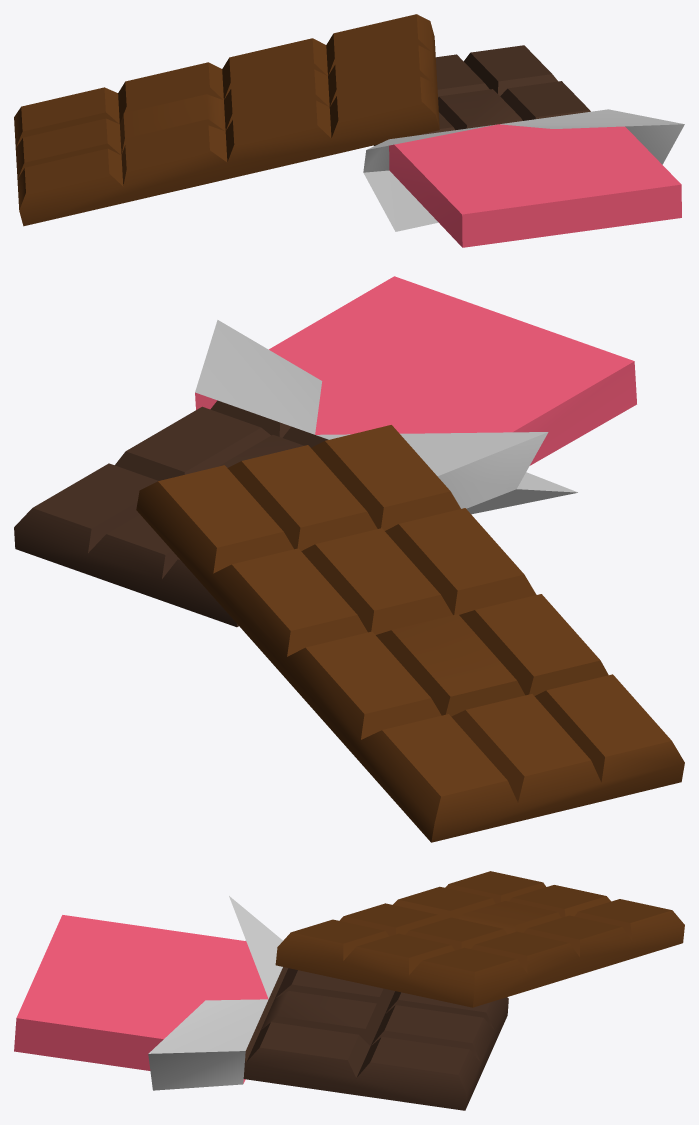
The picture shows the model from 3 angles, top to bottom: view 1: azimuth 30°, elevation 25°; view 2: azimuth 150°, elevation 25°; view 3: azimuth 270°, elevation 25°; orthographic projection. The views are drawn at different scales.
Visible parts, largest first — view 1: Cube.001, Cube; view 2: Cube.001, Cube; view 3: Cube, Cube.001.
Part boxes in pixels (x1,y1,x2,y2): Cube.001: (14, 14, 439, 226); Cube: (363, 45, 684, 247); Cube.001: (136, 425, 684, 842); Cube: (14, 276, 636, 627); Cube: (14, 896, 508, 1110); Cube.001: (275, 871, 684, 1007).
Bounding box in the file's own units: 1.63 × 0.3749 × 1.79.
Materials: 2 (2 with a texture image).
